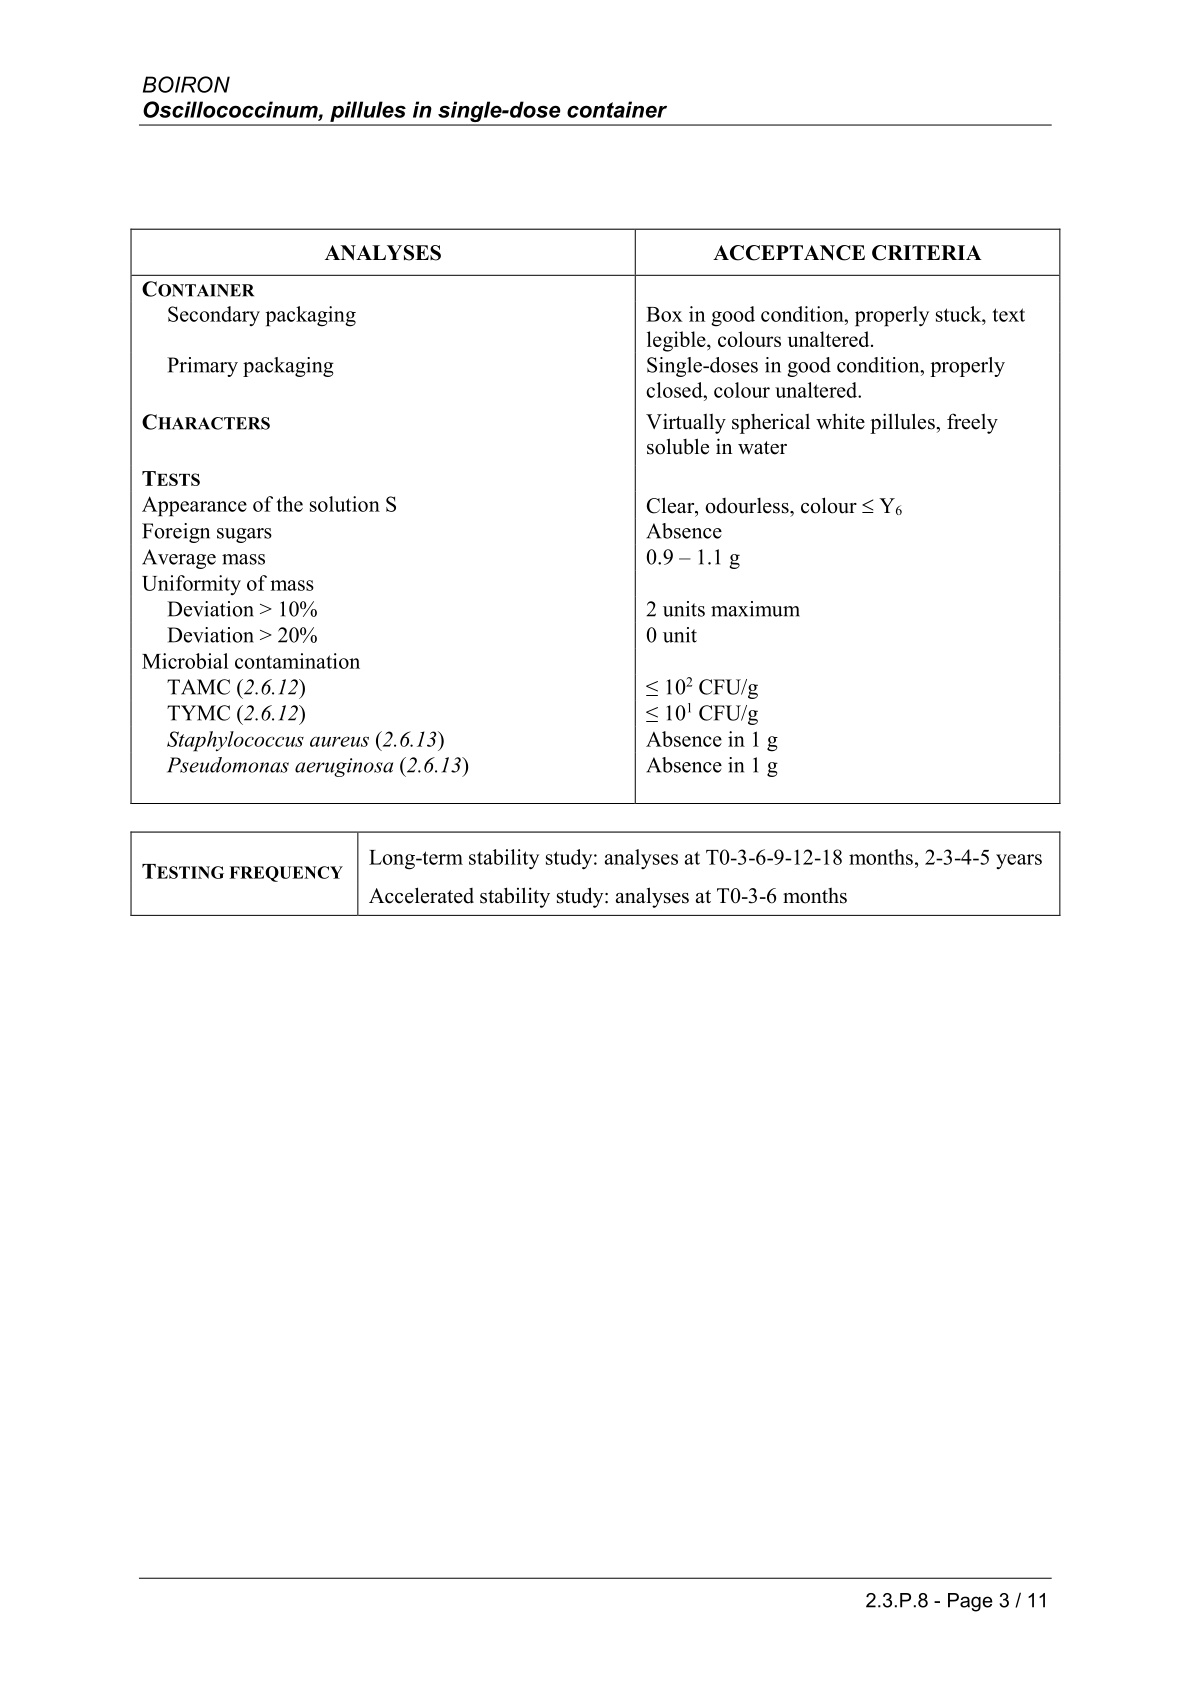full_lined: (129, 828, 1061, 917)
partial_lined: (128, 225, 1061, 805)
